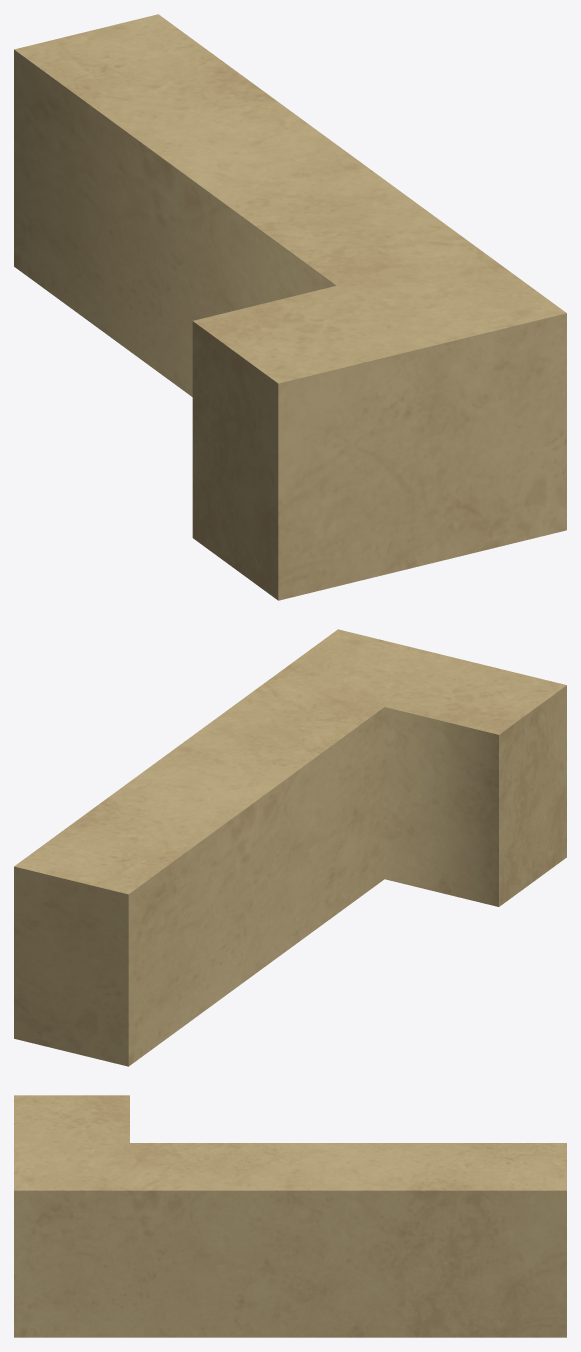
The model's file is External Column.fbx.
3 views of the same model, one above another, from view 1: azimuth 30°, elevation 25°; view 2: azimuth 150°, elevation 25°; view 3: azimuth 270°, elevation 25° (orthographic). The views are drawn at different scales.
Parts seen in each view (by area): view 1: Box011; view 2: Box011; view 3: Box011.
Boxes of the visible parts, <box> form: Box011: <box>14,14,566,600</box>; Box011: <box>14,629,566,1066</box>; Box011: <box>14,1095,566,1337</box>.
Bounding box in the file's own units: 36388 × 26156 × 89209.
Materials: 1 (1 with a texture image).
